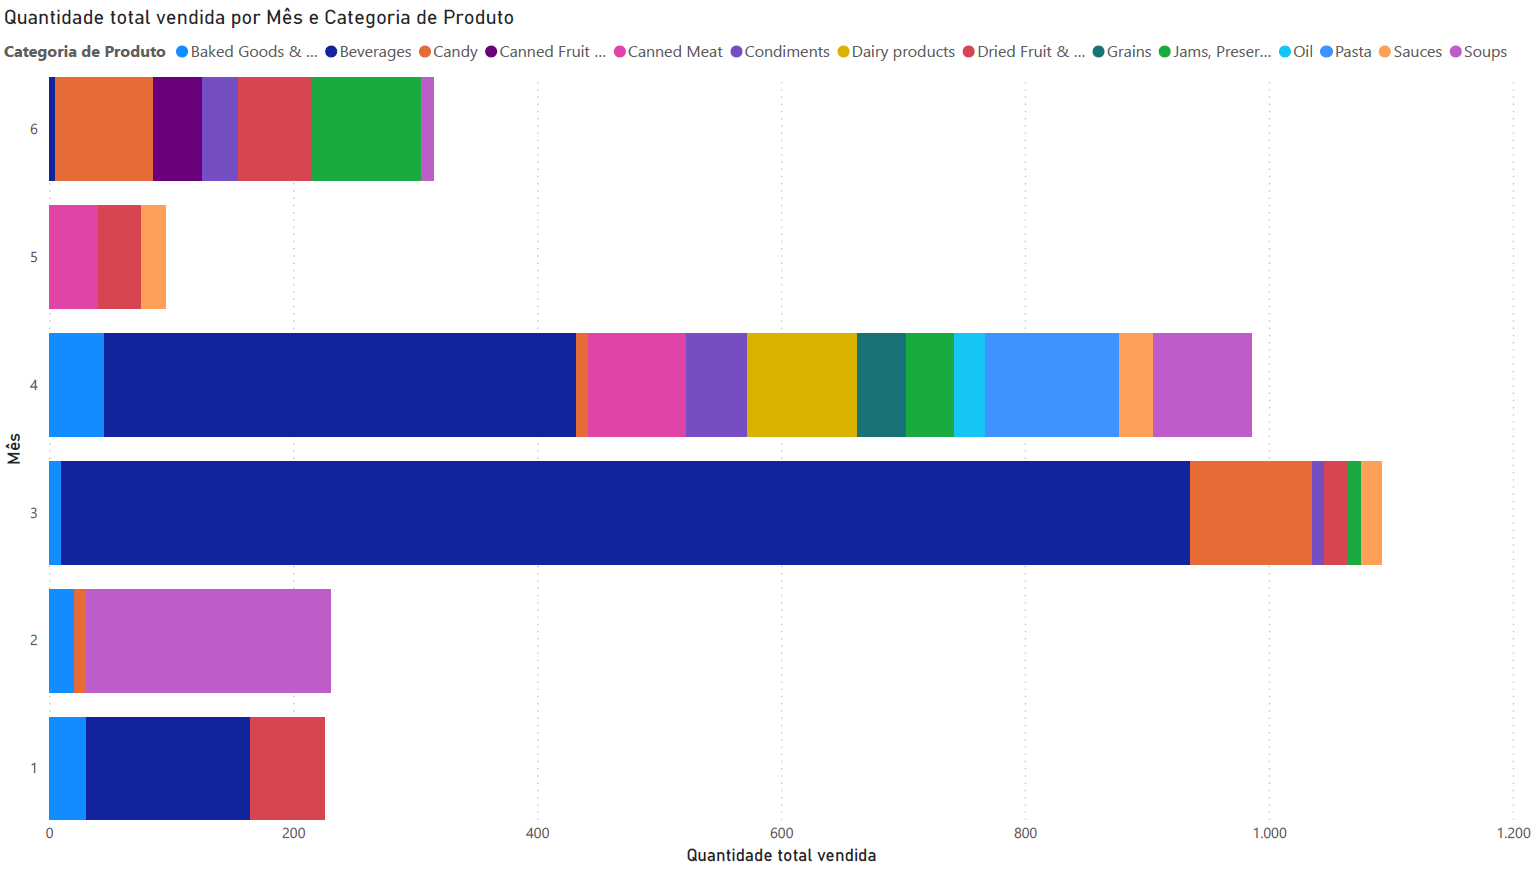

The dashboard page shown, as its layout file describes it:
{"tool":"powerbi","page":{"name":"Categorias mais vendidas por mês","canvas":[1280,720],"ordinal":12},"visuals":[{"type":"barChart","fields":{"Category":["dw_northwind time_dim.month"],"Y":["Sum(dw_northwind sale_fact.quantity)"],"Series":["dw_northwind product_dim.category"]},"box":[0,0,1280,719.8],"z":0}]}

Visuals, with their boxes in screenshot pixels (x1, y1, x2, y2), scaled from the page's 1280x720 canvas onto the 1537x872 screenshot:
barChart - dw_northwind time_dim.month x Sum(dw_northwind sale_fact.quantity): (x1=0, y1=0, x2=1536, y2=871)
